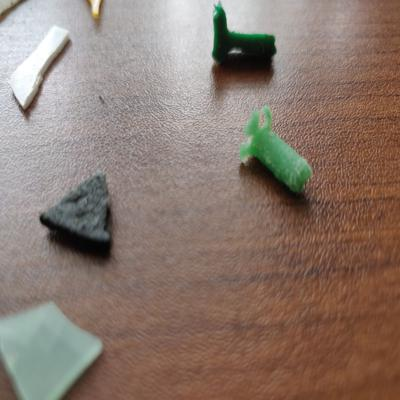plastic: (1, 296, 108, 400), (236, 104, 320, 203), (33, 167, 123, 258), (7, 24, 75, 115), (205, 1, 284, 71)
